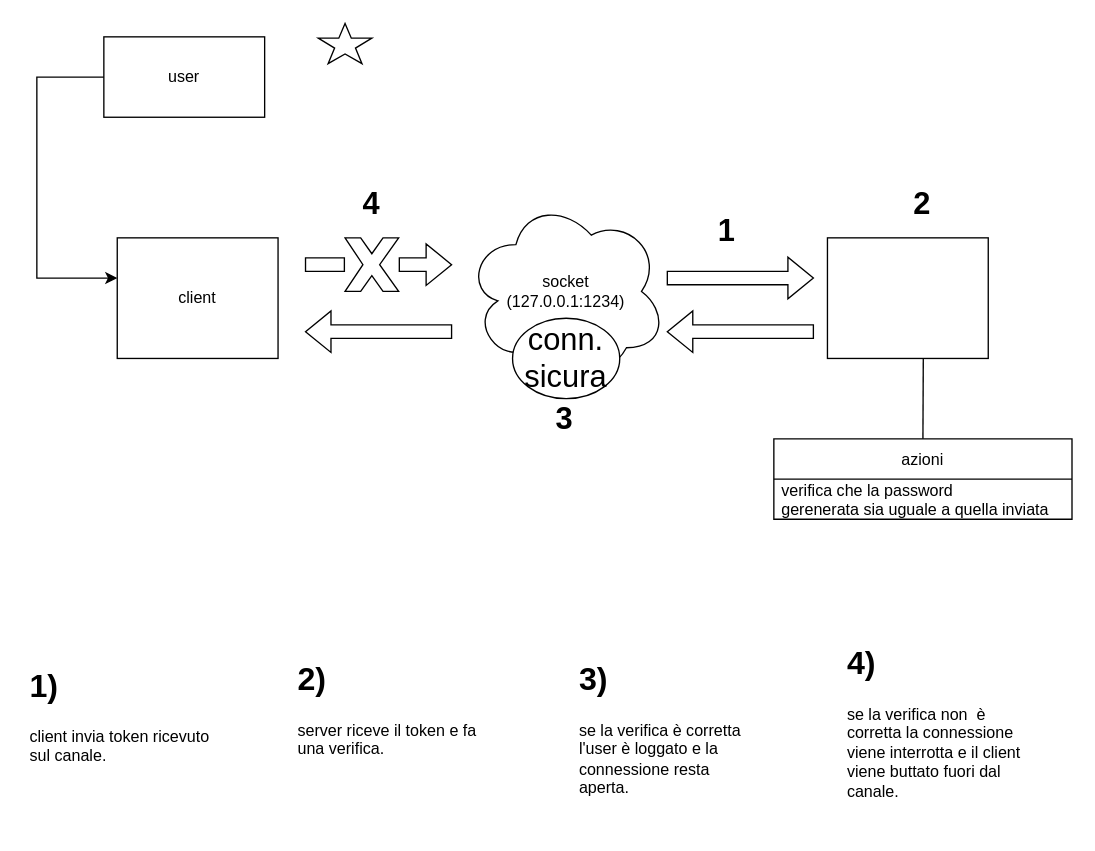
The diagram is 1095 pixels wide and 851 high, and some of its shapes have lost their labels. Here are the shapes that lost their labels. From the top down, the box of each, then its label:
(317, 22, 372, 64): token
(826, 237, 988, 358): server
